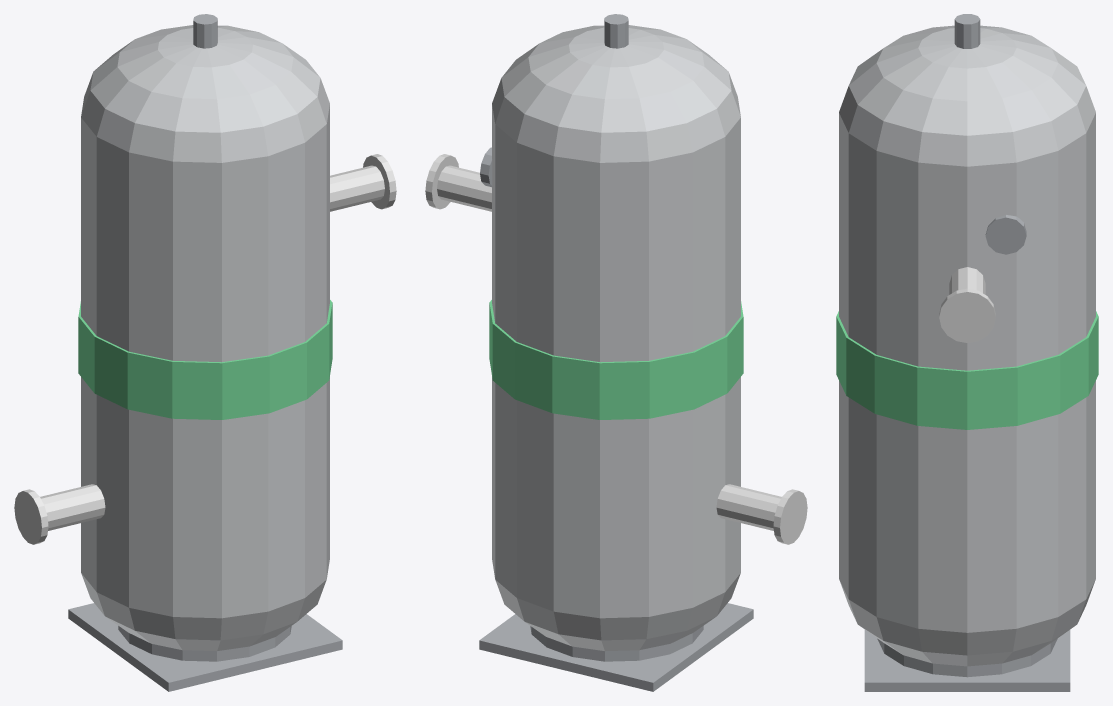
File: h2 tank.fbx
3 views of the same model, side by side, from view 1: azimuth 30°, elevation 25°; view 2: azimuth 150°, elevation 25°; view 3: azimuth 270°, elevation 25° (orthographic). The views are drawn at different scales.
Visible parts, largest first — view 1: H2Tank_Shell, H2Tank_Cap_Top, H2Tank_ID_Band, H2Tank_Base, H2Tank_Cap_Bottom, H2Tank_Outlet, H2Tank_Inlet, H2Tank_Skirt, H2Tank_Outlet_flange, H2Tank_Inlet_flange, H2Tank_Relief_Valve; view 2: H2Tank_Shell, H2Tank_Cap_Top, H2Tank_ID_Band, H2Tank_Base, H2Tank_Cap_Bottom, H2Tank_Outlet, H2Tank_Skirt, H2Tank_Inlet, H2Tank_Outlet_flange, H2Tank_Inlet_flange, H2Tank_Relief_Valve; view 3: H2Tank_Shell, H2Tank_Cap_Top, H2Tank_ID_Band, H2Tank_Cap_Bottom, H2Tank_Base, H2Tank_Inlet_flange, H2Tank_Skirt, H2Tank_Pressure_Gauge, H2Tank_Relief_Valve, H2Tank_Inlet.
Part boxes in pixels (left/top/right/bottom): H2Tank_Shell: left=81, top=105, right=329, bottom=618; H2Tank_Cap_Top: left=81, top=25, right=329, bottom=162; H2Tank_ID_Band: left=78, top=300, right=332, bottom=419; H2Tank_Base: left=68, top=603, right=342, bottom=691; H2Tank_Cap_Bottom: left=81, top=573, right=326, bottom=651; H2Tank_Outlet: left=40, top=484, right=105, bottom=530; H2Tank_Inlet: left=330, top=165, right=384, bottom=211; H2Tank_Skirt: left=118, top=626, right=291, bottom=661; H2Tank_Outlet_flange: left=14, top=489, right=48, bottom=544; H2Tank_Inlet_flange: left=363, top=154, right=396, bottom=209; H2Tank_Relief_Valve: left=193, top=14, right=217, bottom=48; H2Tank_Shell: left=492, top=105, right=740, bottom=618; H2Tank_Cap_Top: left=492, top=25, right=740, bottom=162; H2Tank_ID_Band: left=489, top=300, right=743, bottom=419; H2Tank_Base: left=479, top=603, right=753, bottom=691; H2Tank_Cap_Bottom: left=495, top=573, right=740, bottom=651; H2Tank_Outlet: left=716, top=484, right=781, bottom=530; H2Tank_Skirt: left=530, top=626, right=703, bottom=661; H2Tank_Inlet: left=437, top=165, right=491, bottom=211; H2Tank_Outlet_flange: left=773, top=489, right=807, bottom=544; H2Tank_Inlet_flange: left=425, top=154, right=458, bottom=209; H2Tank_Relief_Valve: left=604, top=14, right=628, bottom=48; H2Tank_Shell: left=839, top=113, right=1095, bottom=632; H2Tank_Cap_Top: left=839, top=25, right=1095, bottom=166; H2Tank_ID_Band: left=836, top=311, right=1098, bottom=429; H2Tank_Cap_Bottom: left=839, top=580, right=1095, bottom=666; H2Tank_Base: left=864, top=630, right=1070, bottom=691; H2Tank_Inlet_flange: left=939, top=288, right=995, bottom=342; H2Tank_Skirt: left=877, top=638, right=1057, bottom=677; H2Tank_Pressure_Gauge: left=985, top=215, right=1026, bottom=254; H2Tank_Relief_Valve: left=954, top=14, right=980, bottom=48; H2Tank_Inlet: left=949, top=267, right=985, bottom=294.
Size of the model in its own units: 163 by 270 by 102.
